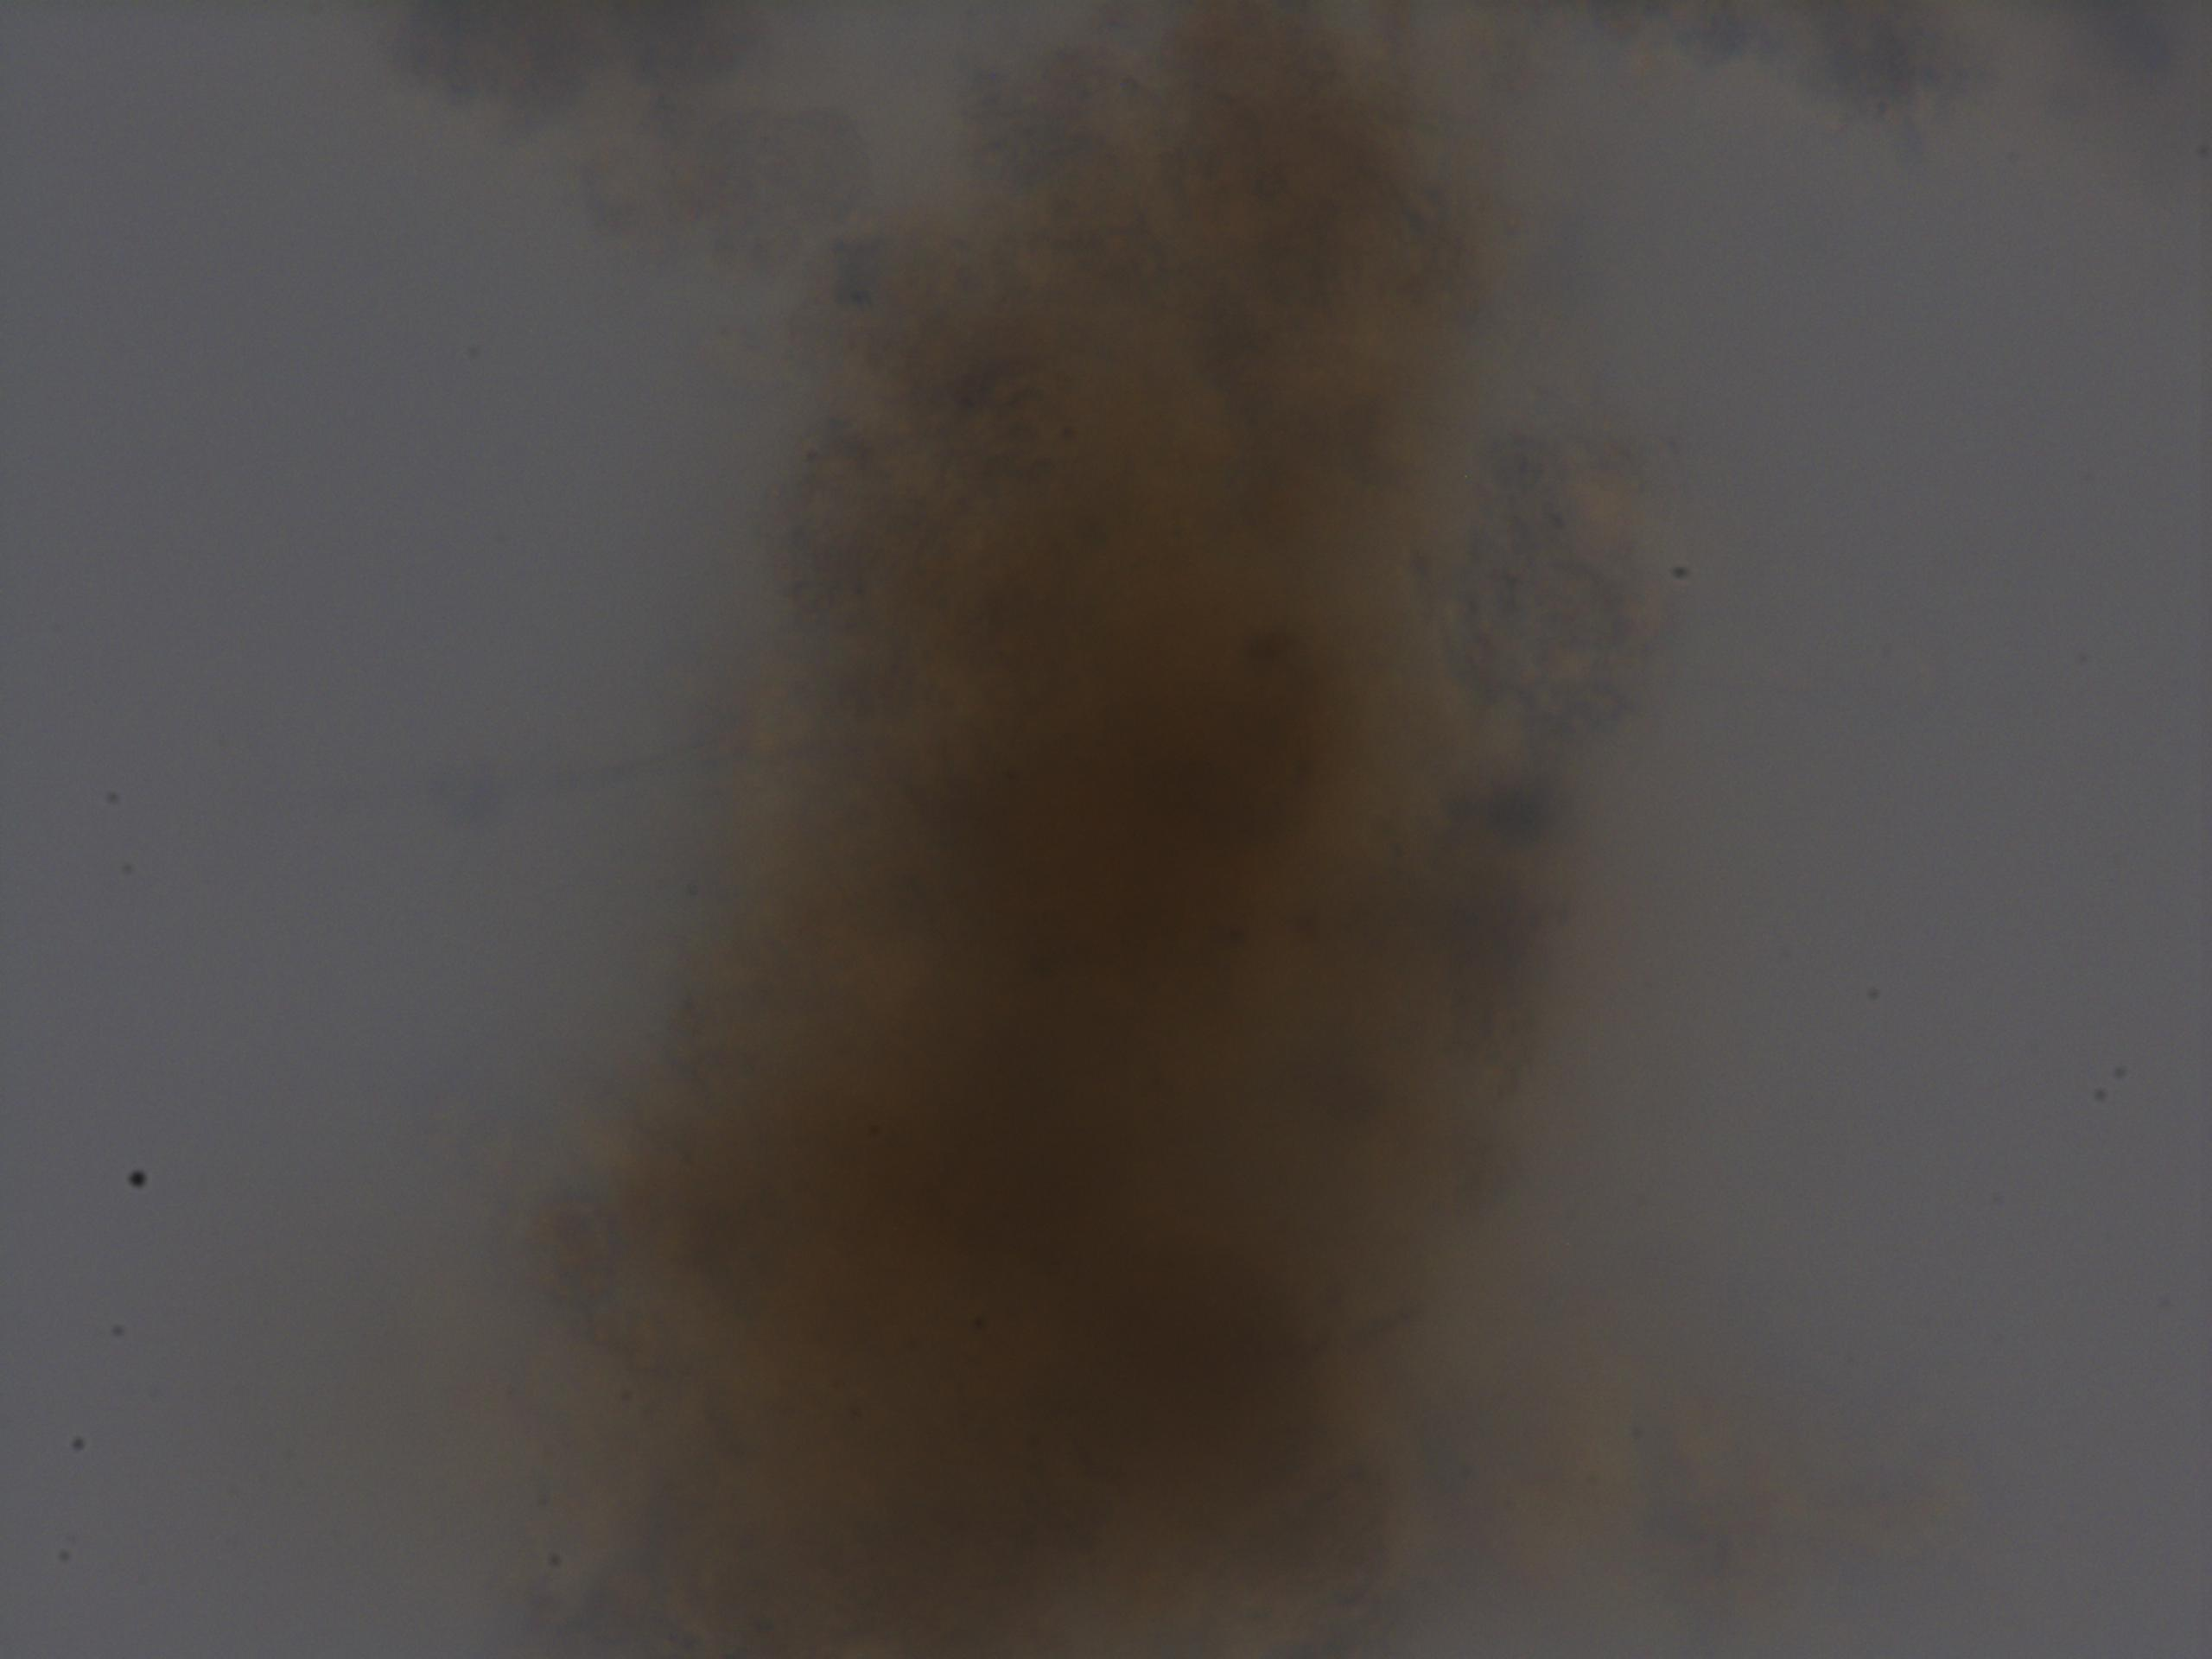spherical_floc: (529, 0, 1615, 1659)
